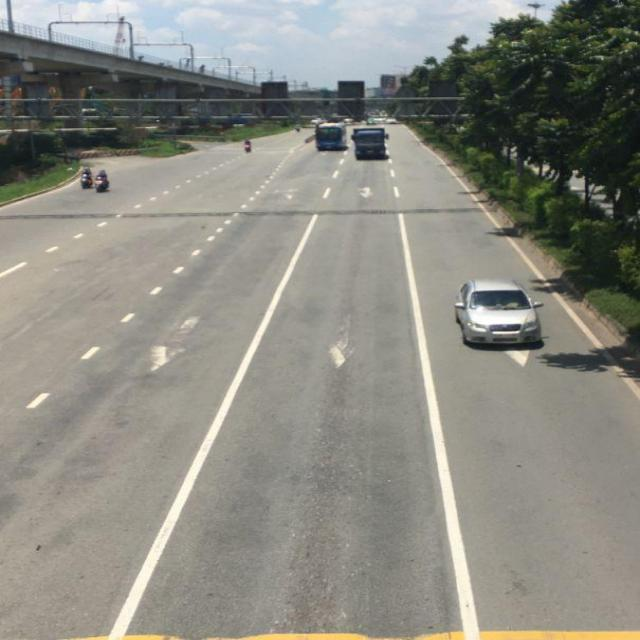bus: (316, 122, 346, 152)
car: (455, 279, 547, 348)
motorcycle: (96, 169, 108, 191)
truck: (354, 127, 389, 160)
